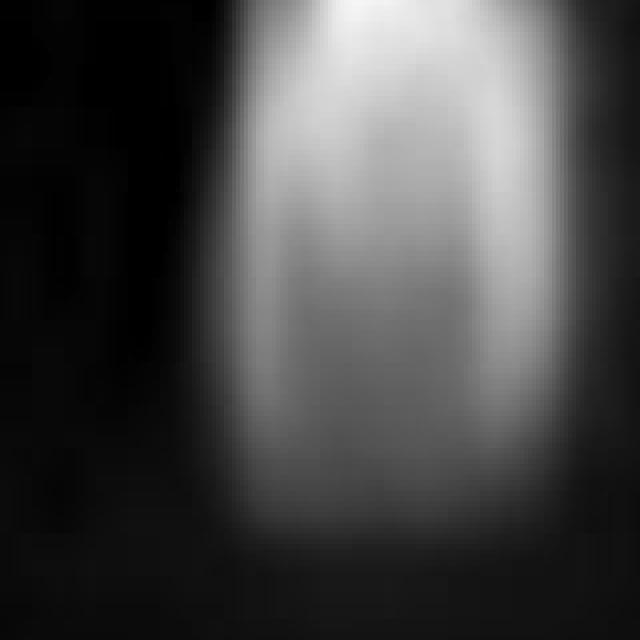person: (193, 1, 593, 534)
